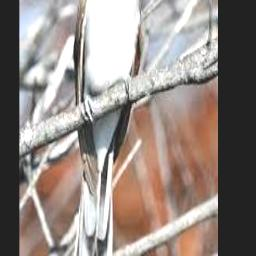Cuckoo: (72, 0, 157, 256)
